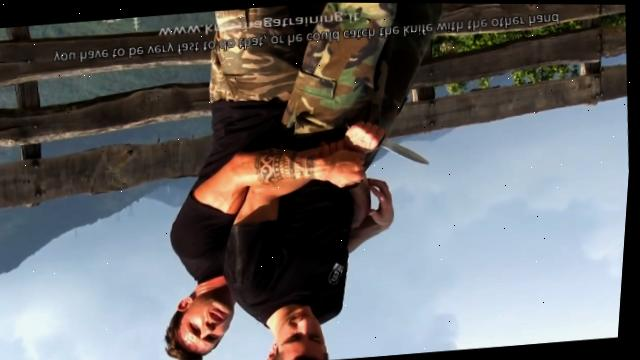pocket-knife: (344, 108, 435, 173)
